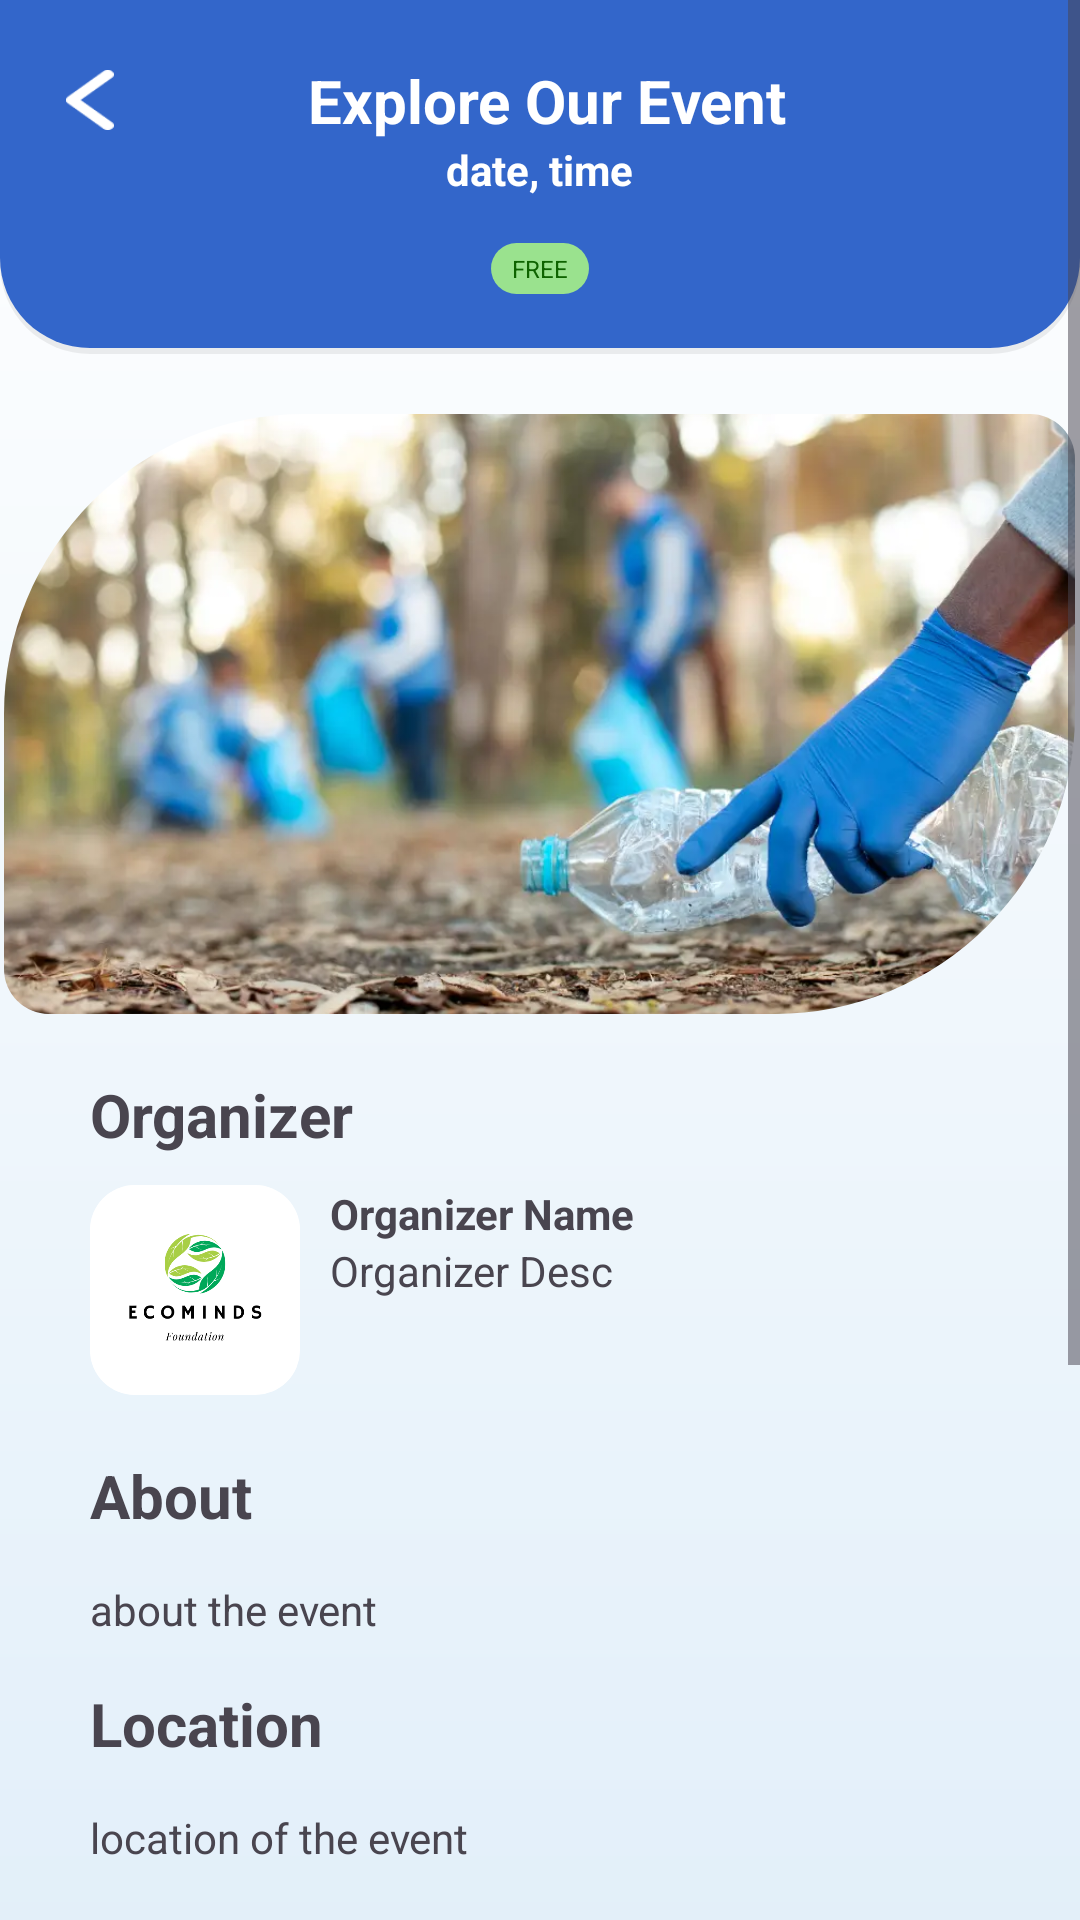

Where to tap for icons on this 1080 × 1920 app screen, as [x,y]:
arrow left: [90,100]
